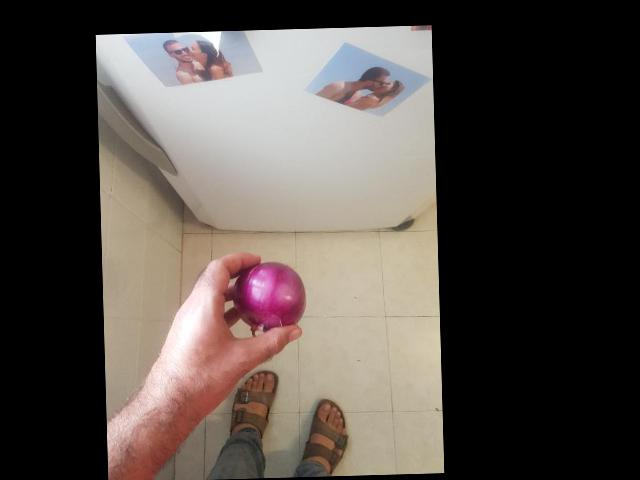onion: (234, 254, 306, 329)
